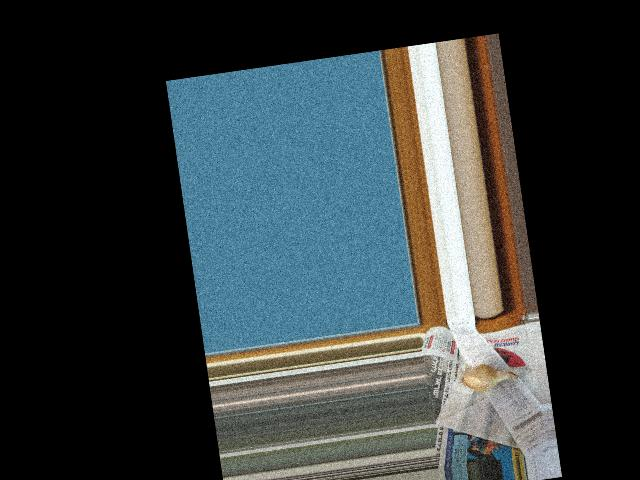onion: (461, 363, 512, 393)
